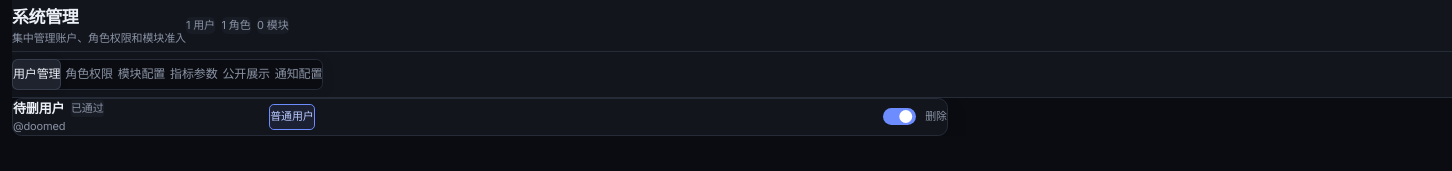
it: 系统管理 · 删除用户 › 删除失败时显示服务端原因
This screenshot has width=1452, height=171.
Click the button with aria-label "删除用户 doomed" at (936, 117), box [925,108,947,125]
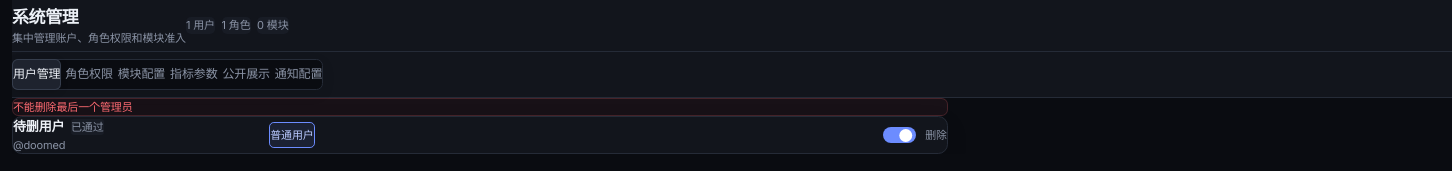
Expected: the text "待删用户" is shown, [13,118,64,134]
Expected: the text "不能删除最后一个管理员" is shown, [12,98,948,116]
